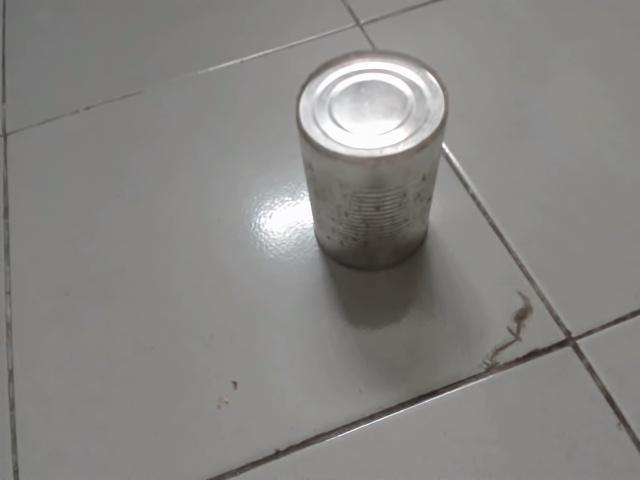anorganik: (294, 44, 453, 277)
